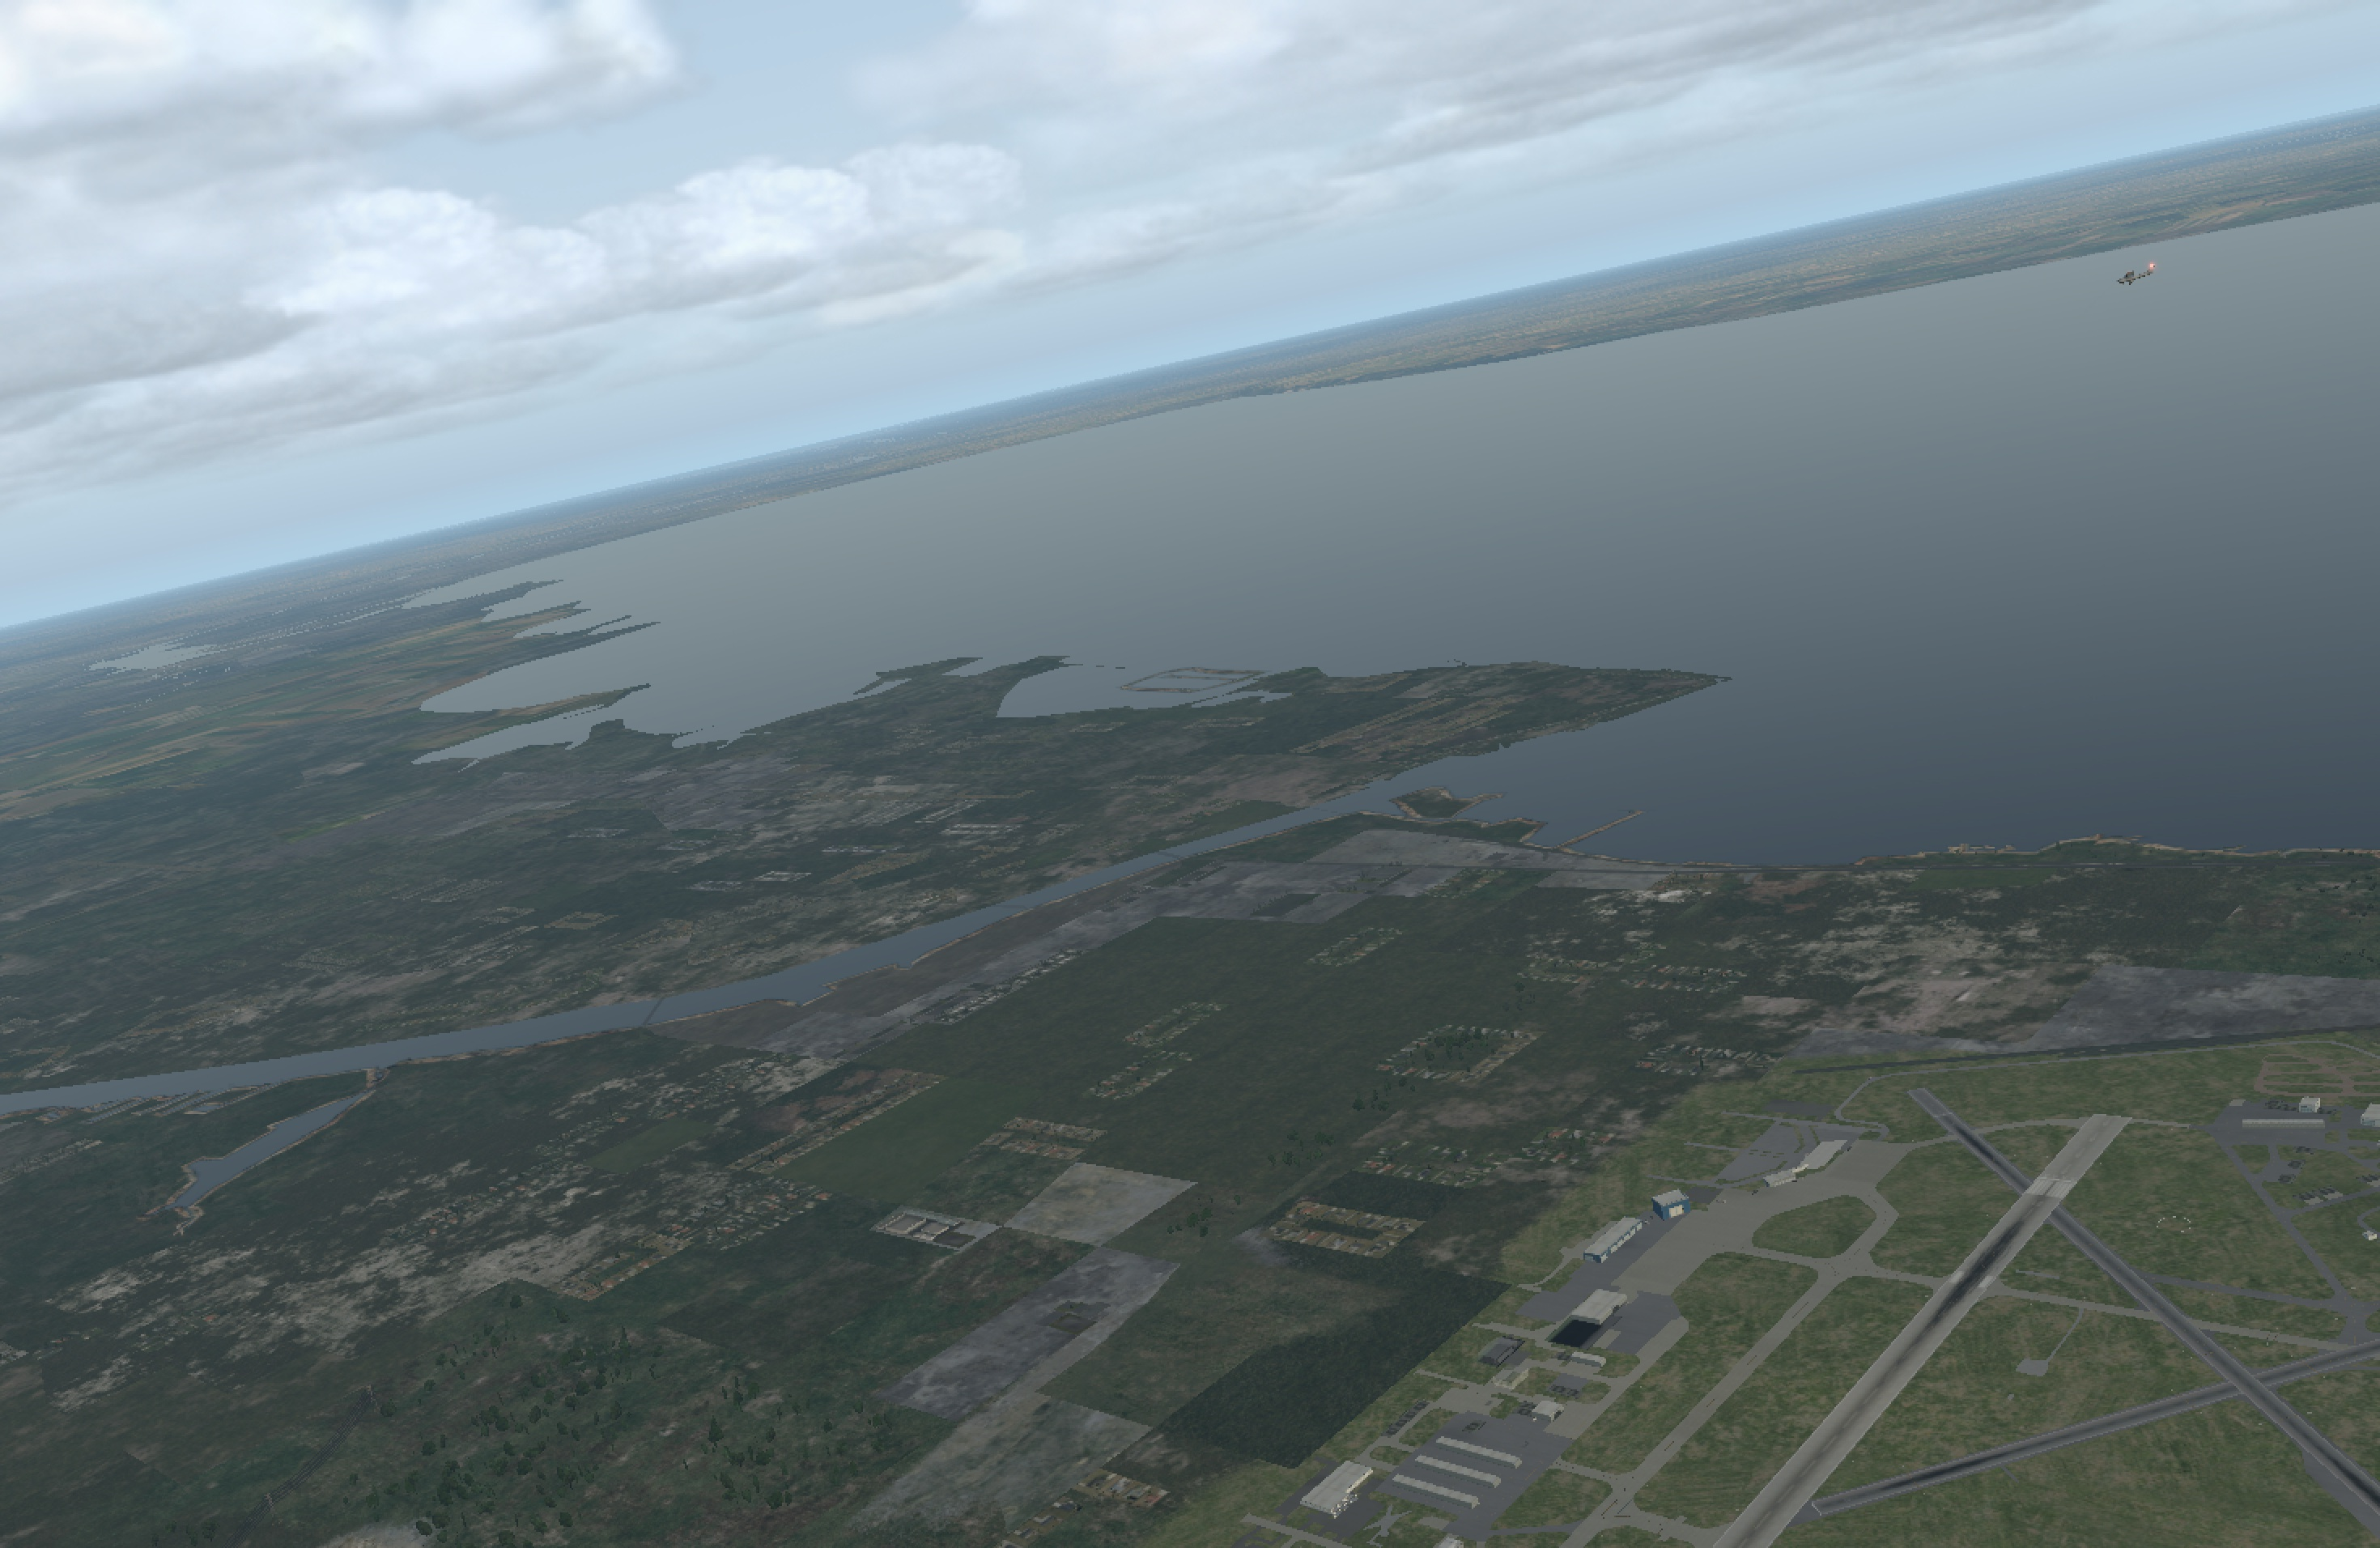aircraft: (2113, 272, 2144, 285)
